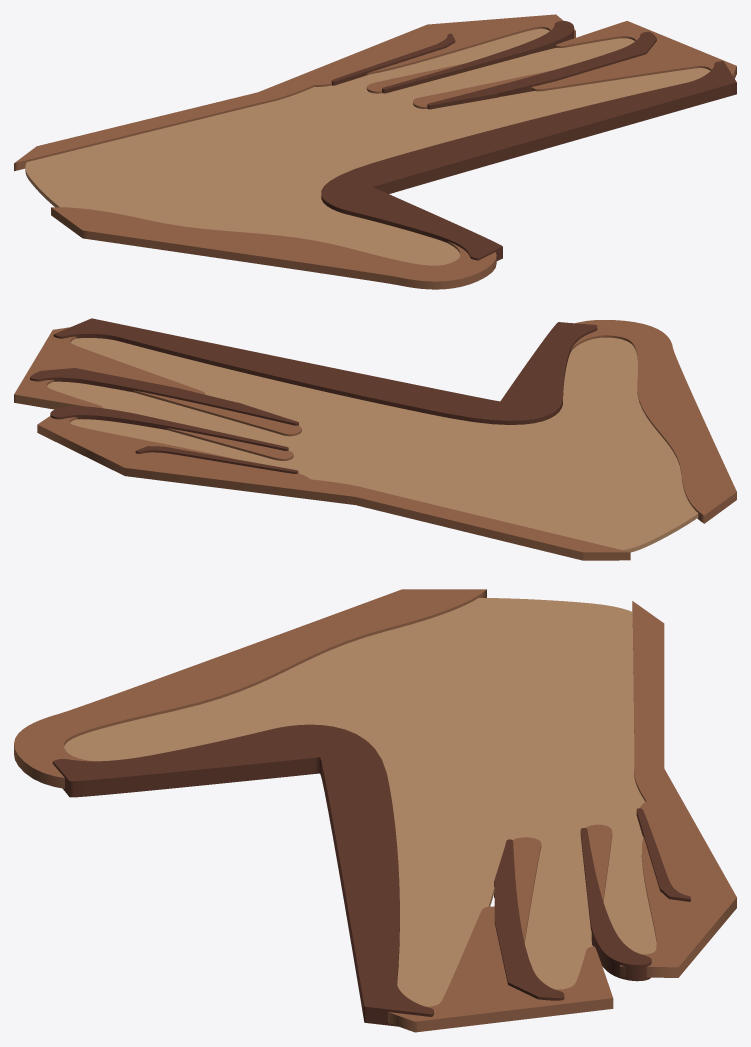
File: emoji_u1faf3_1f3fd.glb
3 renders of one model, top to bottom at view 1: azimuth 30°, elevation 25°; view 2: azimuth 150°, elevation 25°; view 3: azimuth 270°, elevation 25°, orthographic. The views are drawn at different scales.
Parts seen in each view (by area): view 1: emoji_u1faf3_1f3fd; view 2: emoji_u1faf3_1f3fd; view 3: emoji_u1faf3_1f3fd.
Boxes of the visible parts, x1=… form: emoji_u1faf3_1f3fd: x1=14, y1=14, x2=736, y2=289; emoji_u1faf3_1f3fd: x1=14, y1=318, x2=736, y2=560; emoji_u1faf3_1f3fd: x1=14, y1=589, x2=736, y2=1032.
Size of the model in its own units: 0.0345 by 0.0006 by 0.0244.
